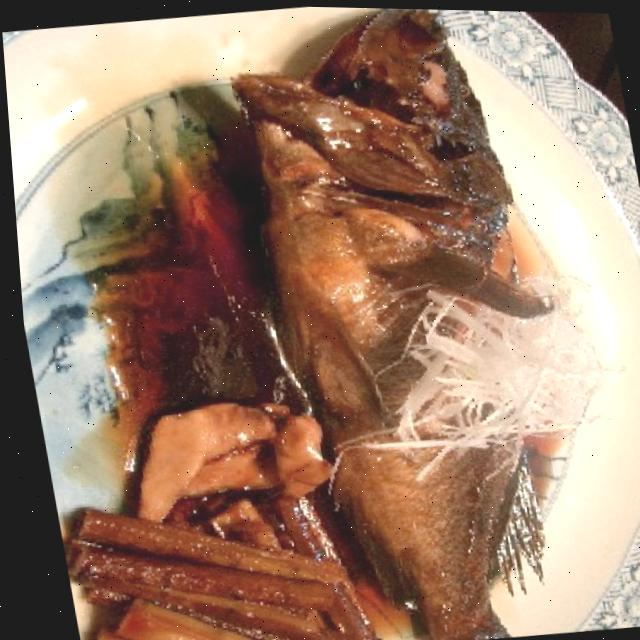熟制海鲜: (166, 3, 640, 640)
